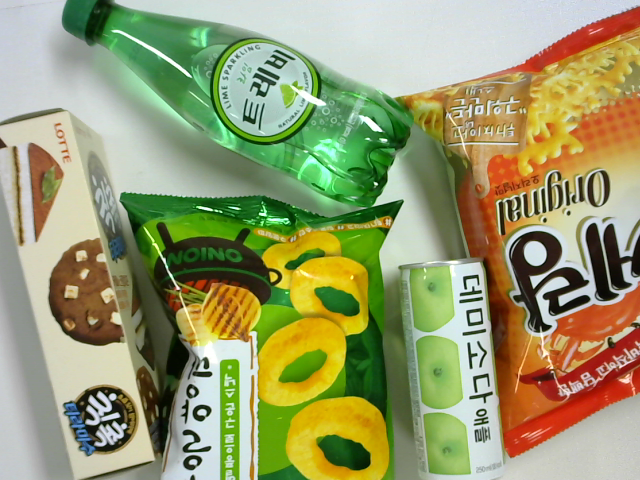Chicchok_Tiramisu: (3, 108, 165, 480)
Crabrang: (401, 2, 640, 456)
Demisoda_Apple_Can_250ml: (391, 256, 509, 480)
Grilled_Onions: (115, 186, 407, 480)
Treviraim_500ml: (59, 2, 419, 208)
